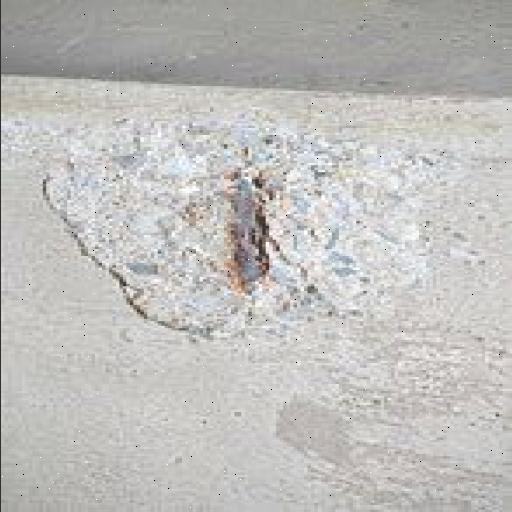spalling: (47, 122, 433, 335)
